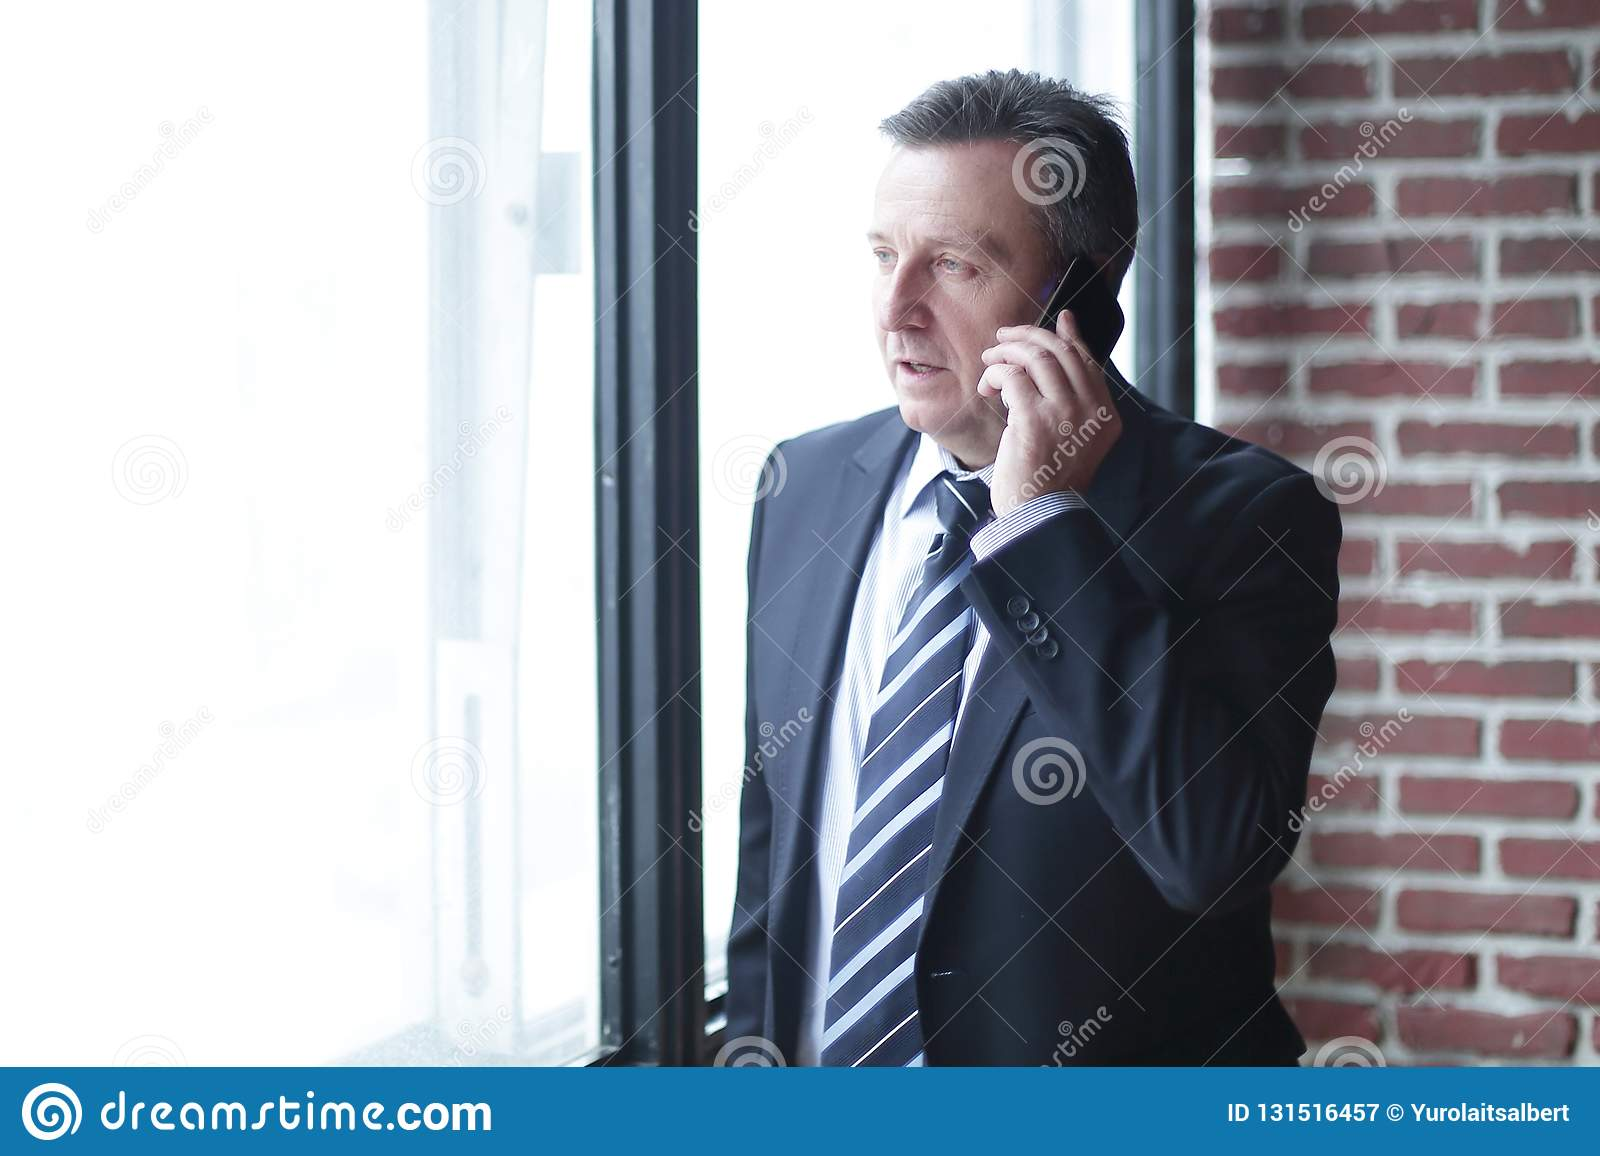phone: (1007, 253, 1127, 412)
talk: (865, 220, 1135, 517)
